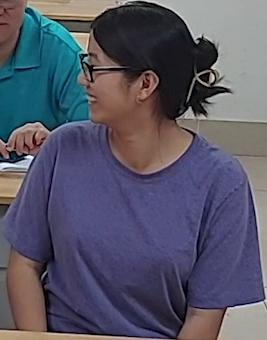Turning_Around: (11, 2, 260, 322)
